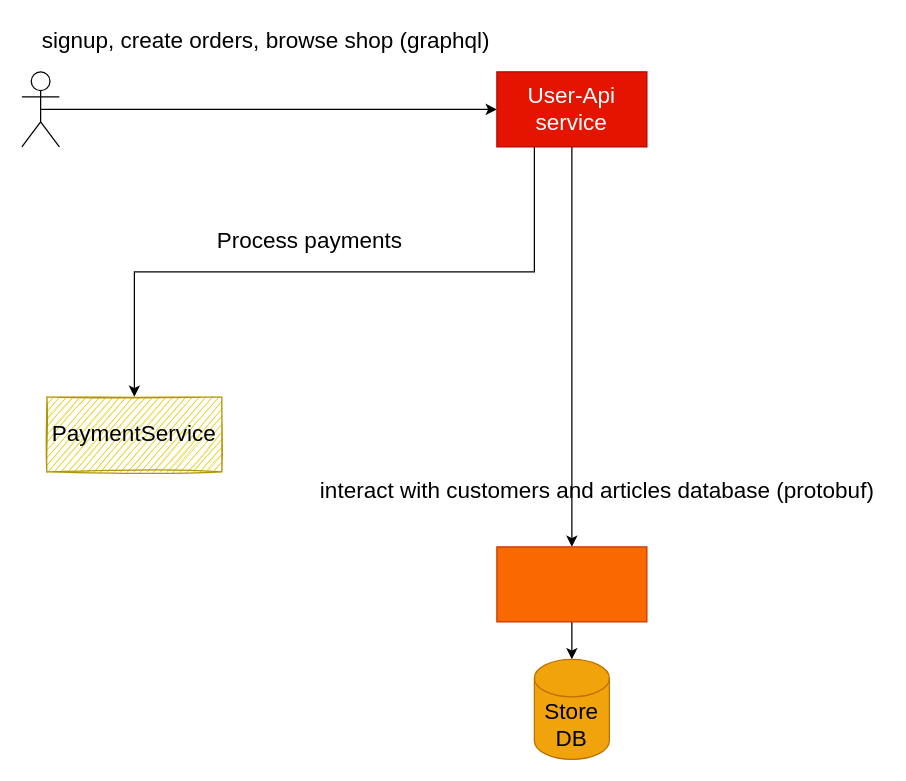
This 906x781 diagram has some shape labels left out. Here are the shapes that lost their labels. From the top down, the centre of each, then its label:
At pixel 40 109: "User".
At pixel 571 584: "Store Service".
